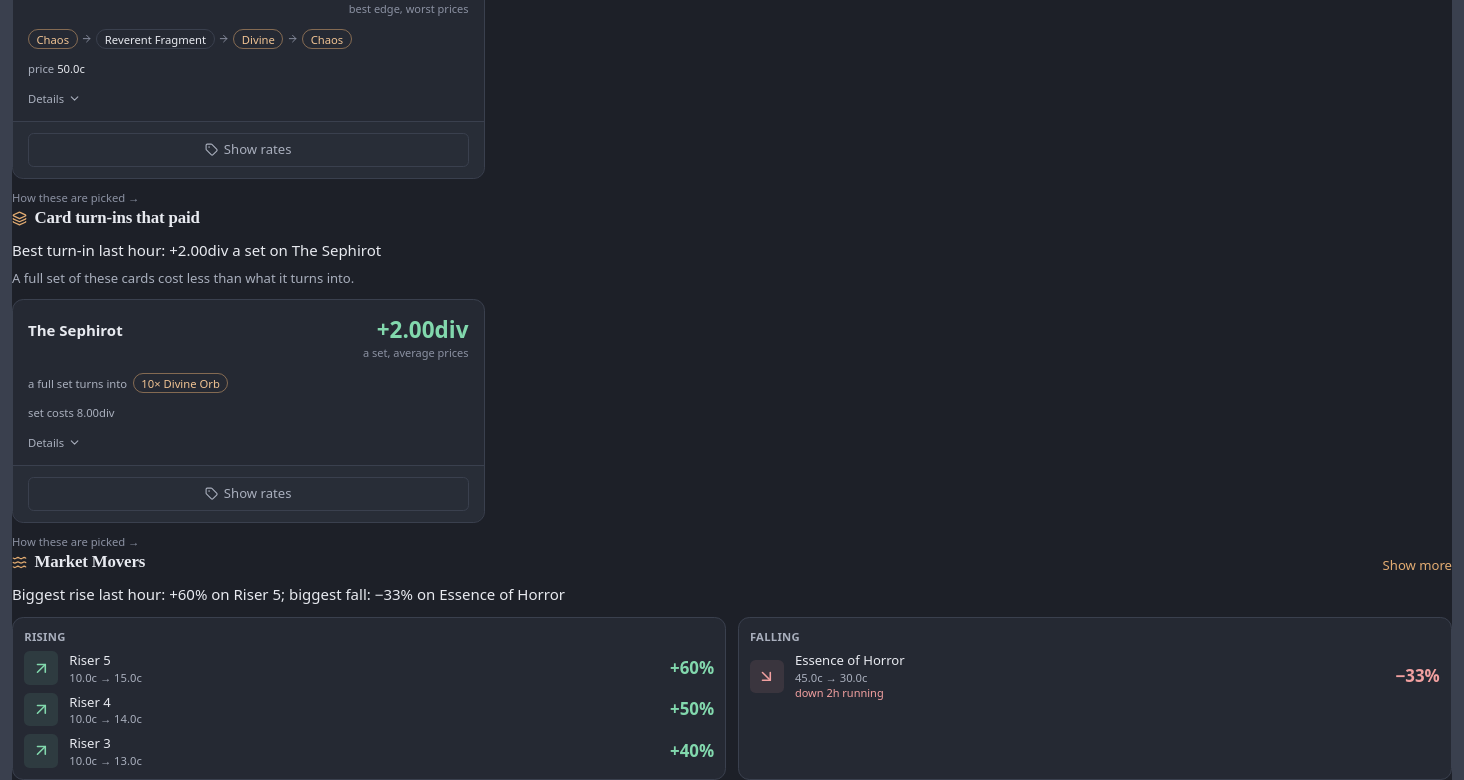
Test case: Market recap › shows more market movers on request, from the list already sent
This screenshot has width=1464, height=780.
(page scrolled)
Expected: the text "Riser 0" is not shown
Click the button "Show more".
click(1417, 565)  # box [1383,556,1452,575]
(page scrolled)
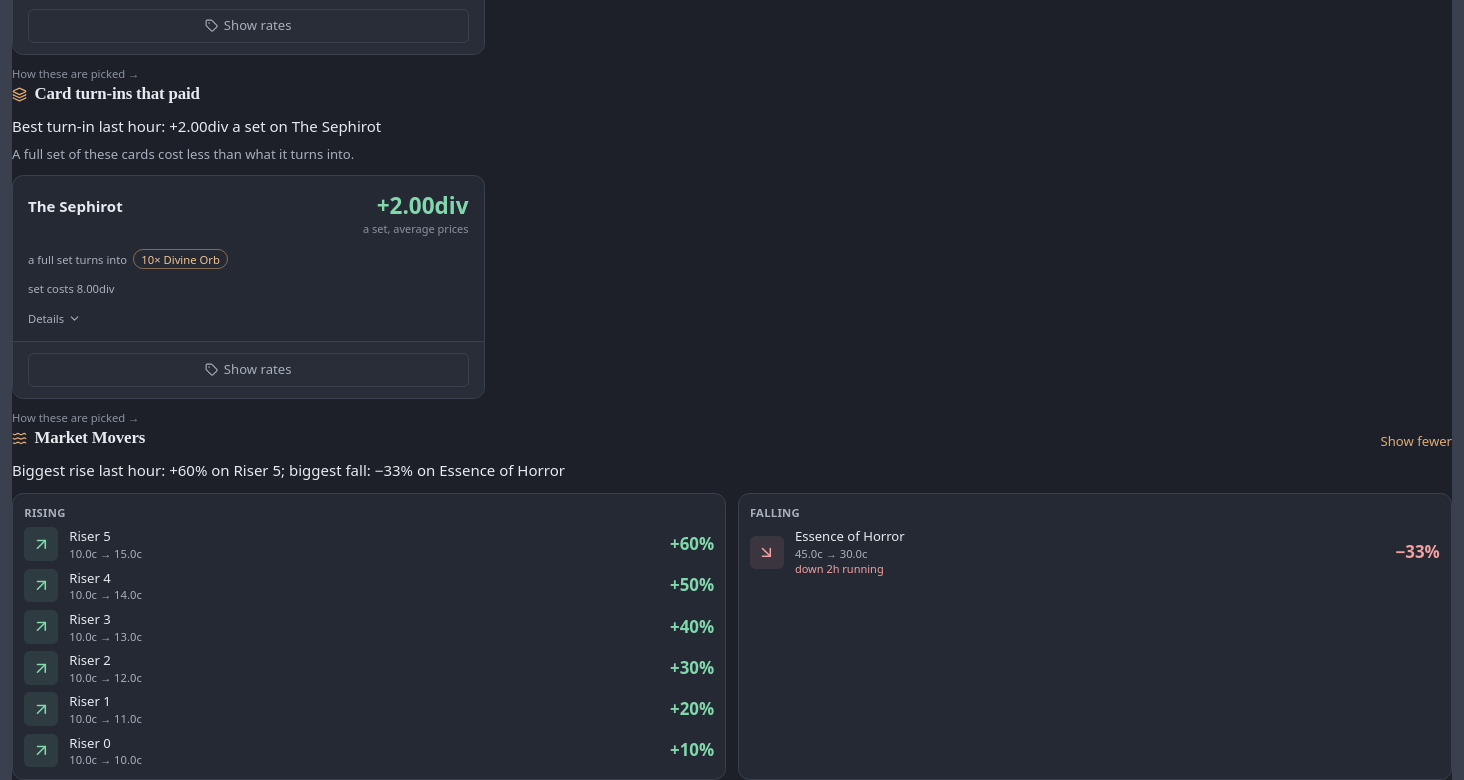
Expected: the text "Riser 0" is shown, [69,734,111,752]
